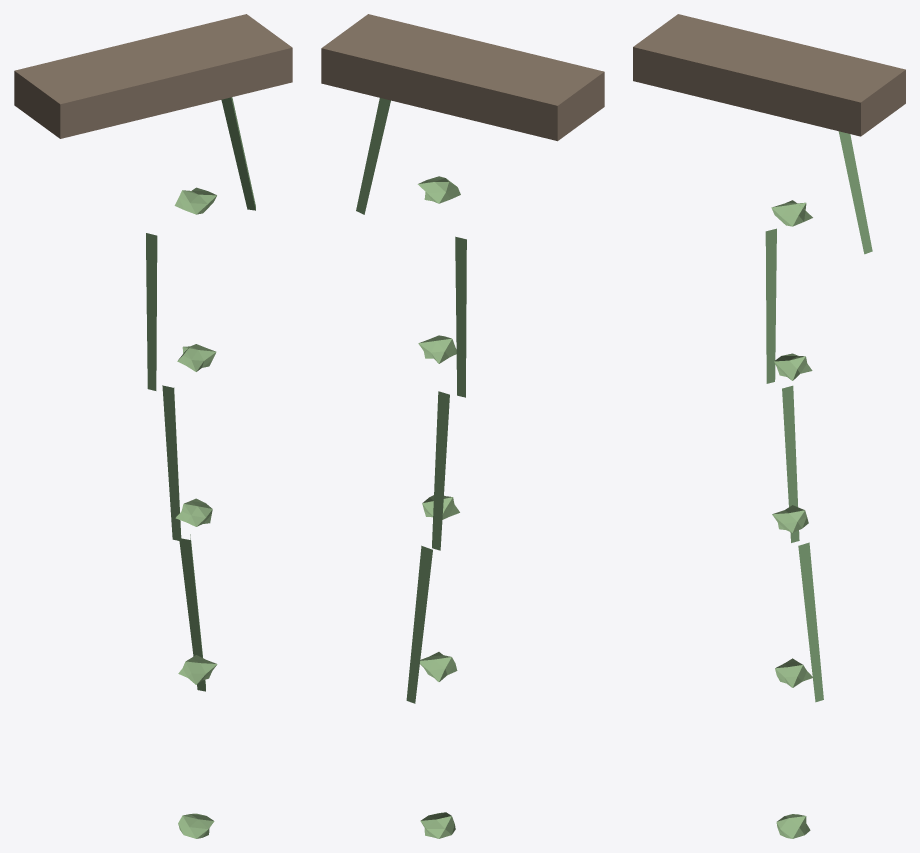
The model's file is vine_v29.glb.
The picture shows the model from 3 angles, left to right: view 1: azimuth 30°, elevation 25°; view 2: azimuth 150°, elevation 25°; view 3: azimuth 330°, elevation 25°; orthographic projection. The views are drawn at different scales.
Parts seen in each view (by area): view 1: lod0; view 2: lod0; view 3: lod0.
Boxes of the visible parts, <box> form: lod0: <box>14,14,292,838</box>; lod0: <box>321,14,604,838</box>; lod0: <box>633,14,905,838</box>.
Size of what is drawn, in the model's own units: 0.7 by 2.25 by 0.2425.
